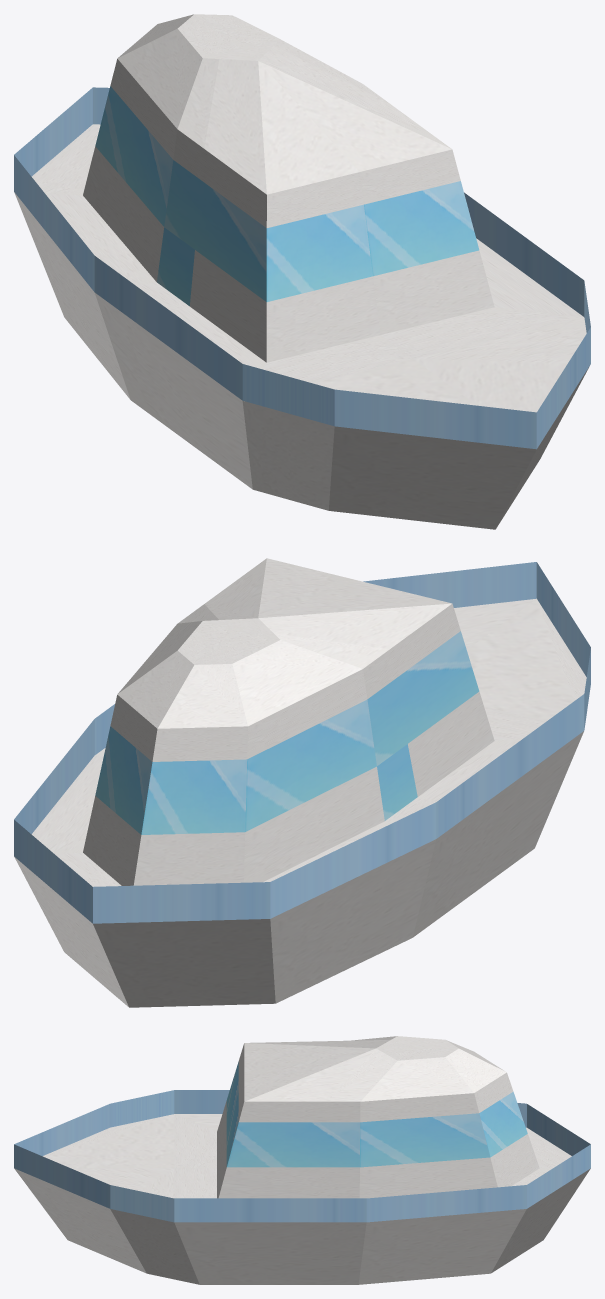
File: boat.glb
The picture shows the model from 3 angles, top to bottom: view 1: azimuth 30°, elevation 25°; view 2: azimuth 150°, elevation 25°; view 3: azimuth 270°, elevation 25°; orthographic projection. The views are drawn at different scales.
Visible parts, largest first — view 1: Cube; view 2: Cube; view 3: Cube.
Part boxes in pixels (x1,y1,x2,y2): Cube: (14, 14, 590, 529); Cube: (14, 558, 590, 1007); Cube: (14, 1036, 590, 1284).
Size of the model in its own units: 9.7 by 8 by 21.82.
Materials: 1 (1 with a texture image).
